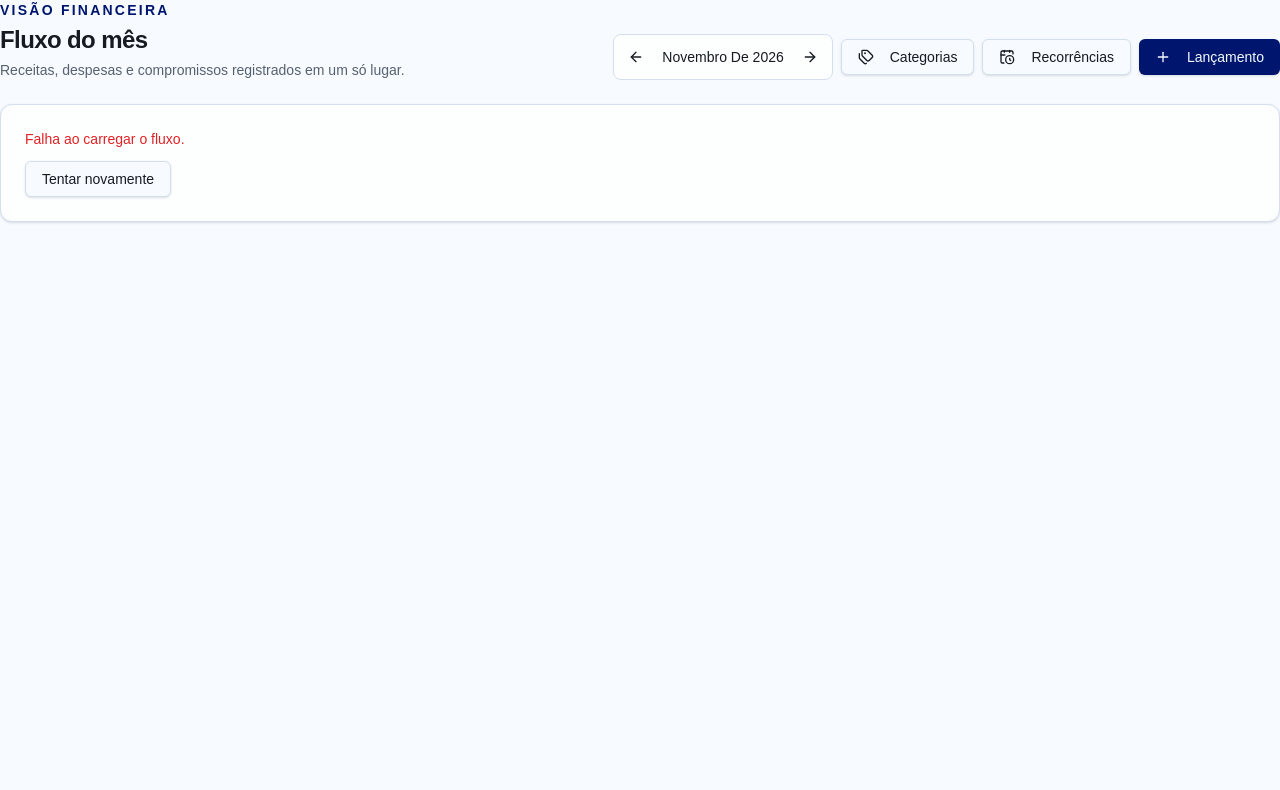
it: FinancialOverview › shows the API error and retries the overview request
Expected: the message reads "Falha ao carregar o fluxo.", x1=25 y1=131 x2=184 y2=147
Click the button "Tentar novamente": click(98, 179) x1=25 y1=161 x2=171 y2=197
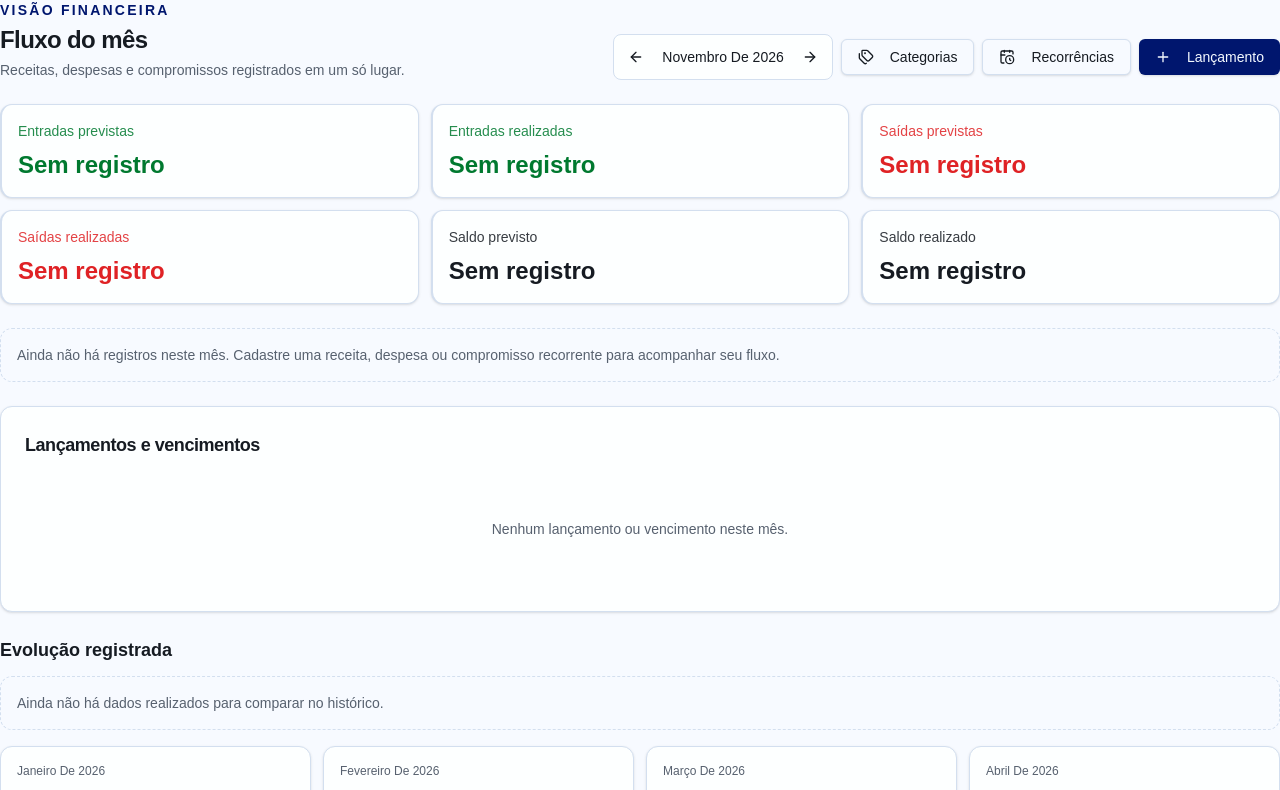
Expected: the text "Ainda não há registros neste mês" is shown, x1=17 y1=347 x2=780 y2=363
